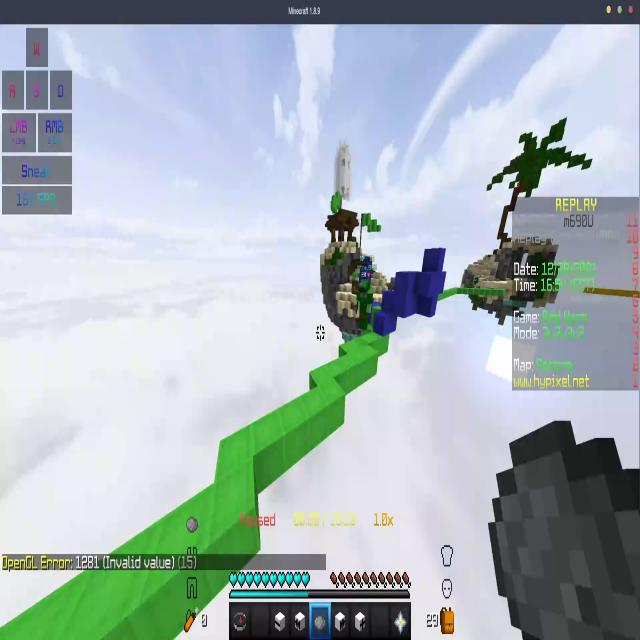Player: (354, 272, 374, 336)
